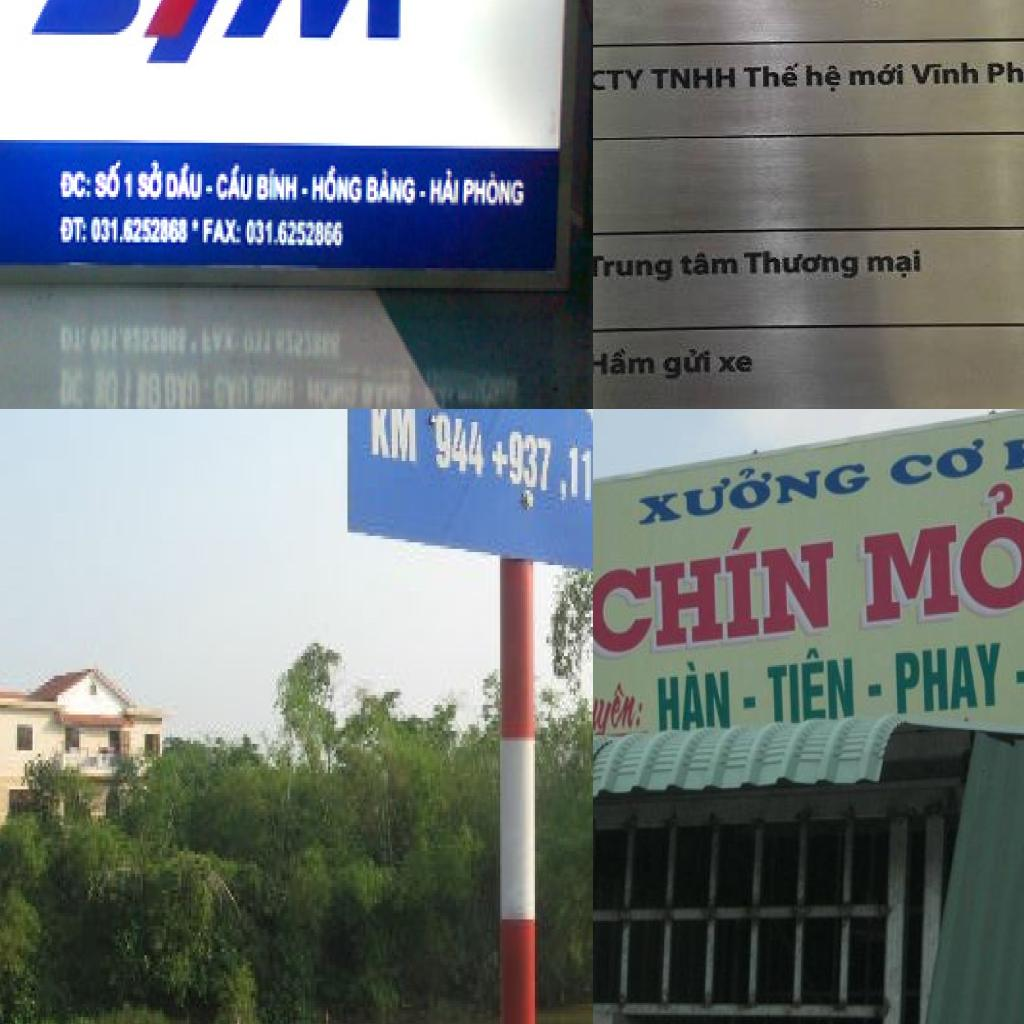text: (593, 504, 842, 670), (849, 444, 1024, 646), (25, 0, 425, 83), (632, 440, 877, 537), (886, 634, 1010, 722), (764, 638, 860, 732), (883, 431, 989, 498), (652, 655, 734, 737), (490, 422, 554, 507), (742, 248, 863, 282), (430, 412, 486, 484), (91, 211, 190, 251), (593, 675, 649, 741), (367, 409, 423, 474), (464, 169, 530, 211), (648, 64, 740, 93), (556, 441, 593, 513), (593, 252, 676, 284), (366, 163, 419, 211), (865, 244, 925, 282), (312, 166, 366, 206), (659, 347, 716, 383), (593, 347, 657, 378), (214, 160, 255, 208), (910, 61, 982, 88), (678, 249, 740, 280), (253, 168, 300, 208), (742, 61, 804, 91), (165, 160, 206, 205), (593, 64, 646, 96), (200, 214, 245, 251), (427, 166, 462, 211), (848, 61, 906, 88), (94, 157, 126, 203), (58, 162, 94, 202), (56, 211, 92, 251), (137, 154, 165, 203), (803, 63, 844, 93), (983, 59, 1024, 86), (124, 168, 137, 206), (740, 692, 758, 711), (866, 682, 884, 698), (1013, 665, 1024, 687), (192, 214, 202, 234), (419, 186, 431, 202), (206, 180, 216, 197), (300, 186, 310, 200)
